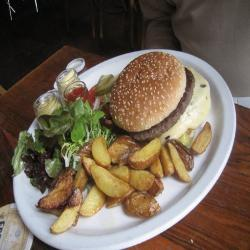burger: (109, 50, 211, 144)
fries: (63, 143, 177, 206)
ketchup: (62, 81, 91, 103)
salad: (26, 111, 99, 154)
